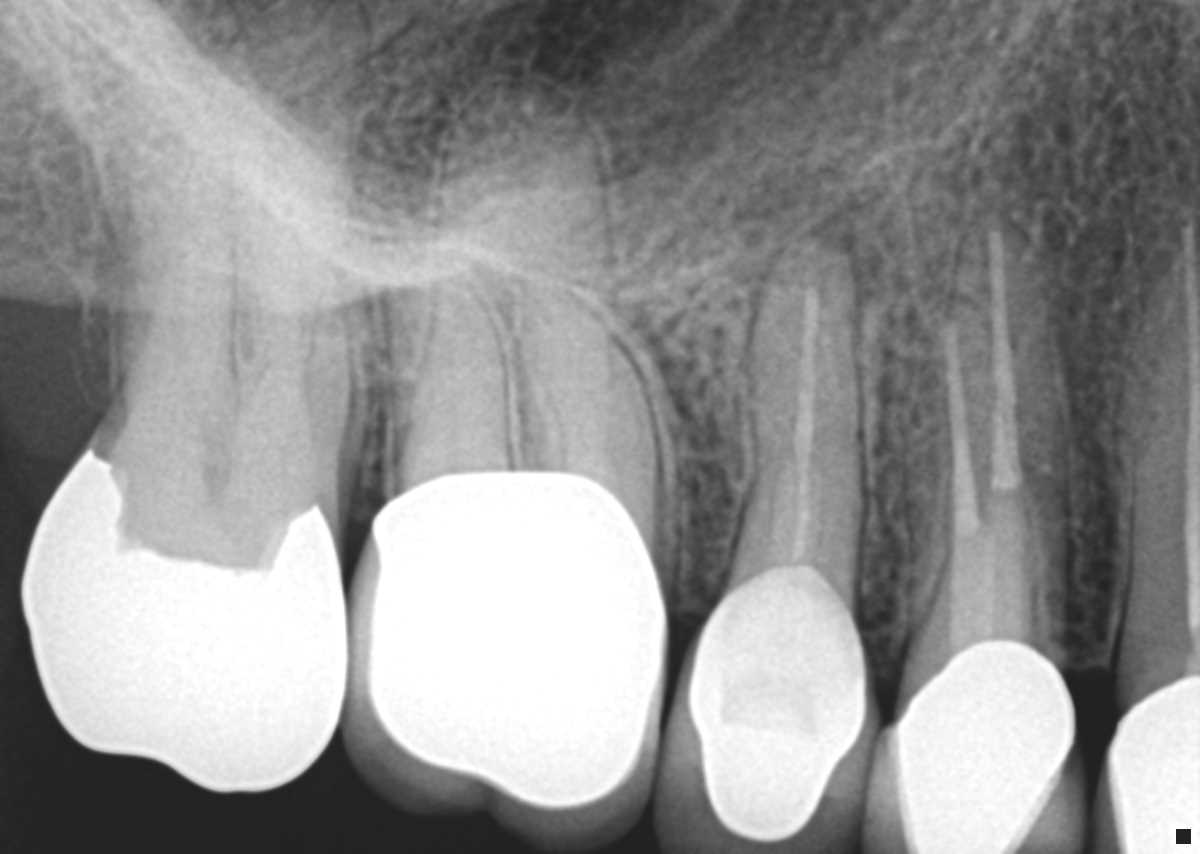Apical Lesion: (730, 165, 881, 303)
Distal Root: (118, 120, 244, 415), (382, 254, 512, 487)
Main Root: (916, 216, 1078, 642), (721, 236, 864, 601), (897, 294, 1038, 626), (1115, 239, 1200, 631)
Mesial Root: (517, 286, 655, 525), (246, 177, 356, 461)
Palatal Root: (390, 78, 621, 511)
Root Canal Filling: (790, 286, 818, 567), (987, 233, 1017, 488), (941, 325, 974, 542), (1182, 291, 1200, 631)
